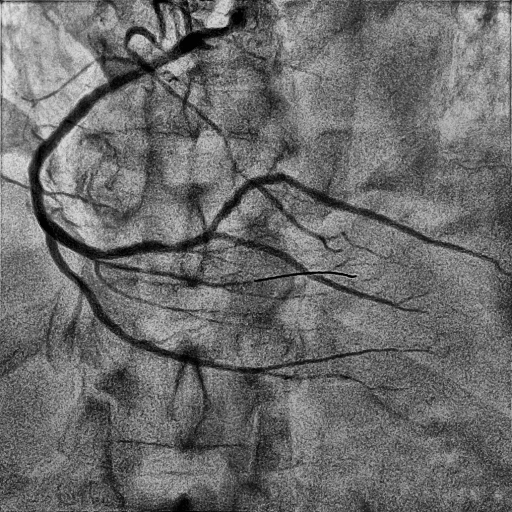pborca: (206, 173, 495, 263)
pda: (214, 232, 428, 311)
rca: (29, 27, 226, 259)
